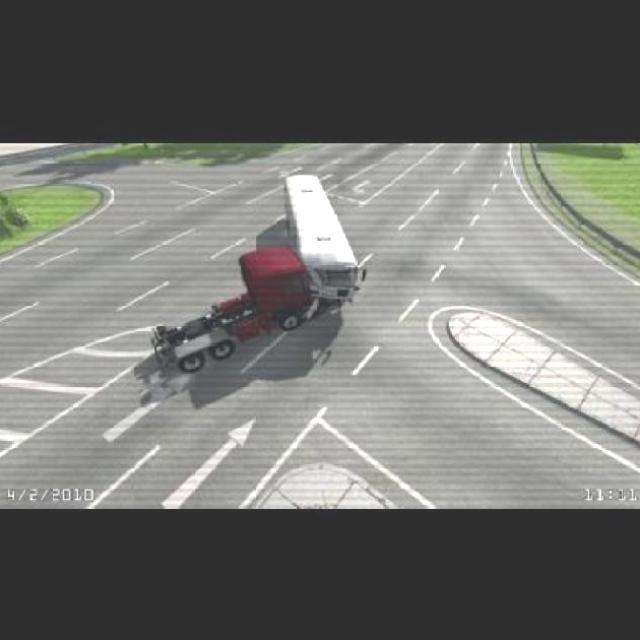accident: (258, 249, 362, 323)
